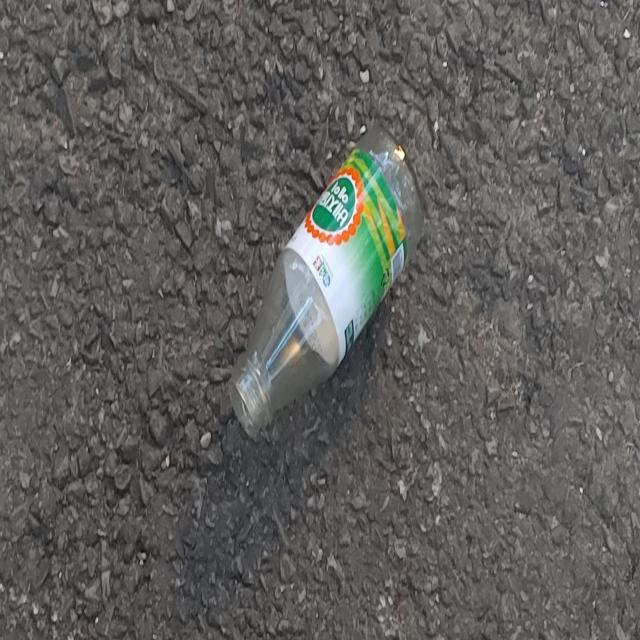glass: (229, 121, 423, 438)
